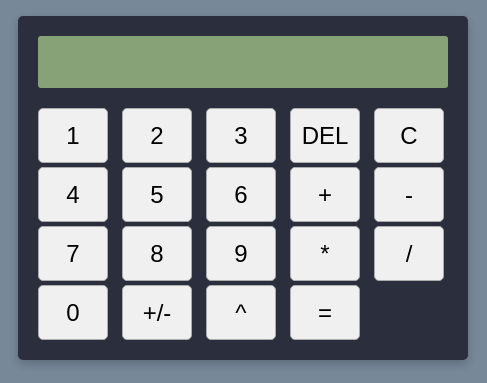
Test: operations test › multiplies two positive numbers
The image size is (487, 383).
Click the button "4" at (73, 194), box 38,167 -> 108,222
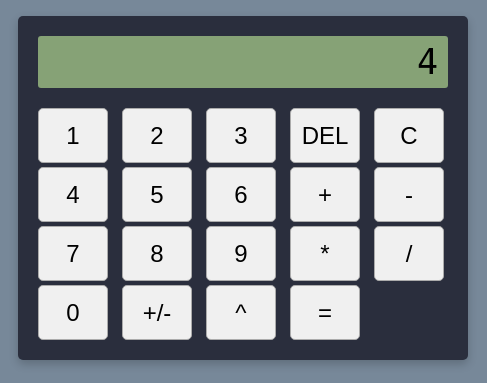
Click the button "*" at (325, 254), box 290,226 -> 360,281
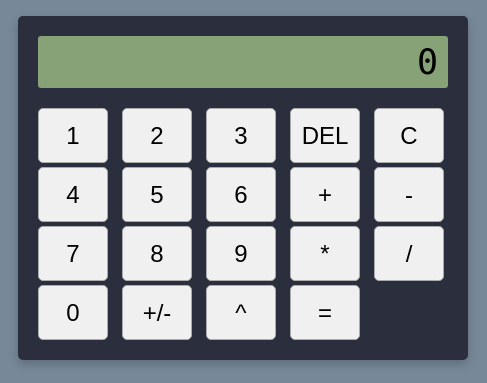
Click the button "3" at (241, 136), box 206,108 -> 276,163
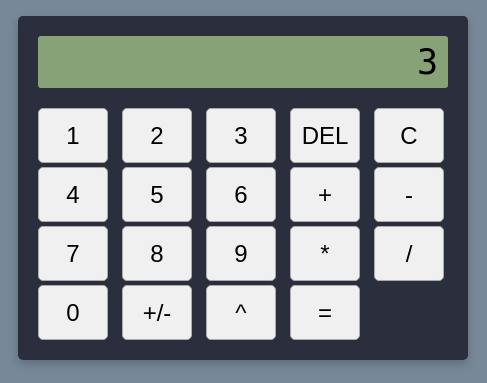
Click the button "=" at (325, 312), box 290,285 -> 360,340
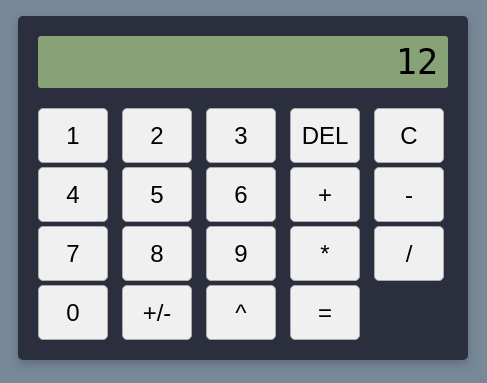
expect the text with test id "calculator-display" reads "12": met, box 396,42 -> 438,82
